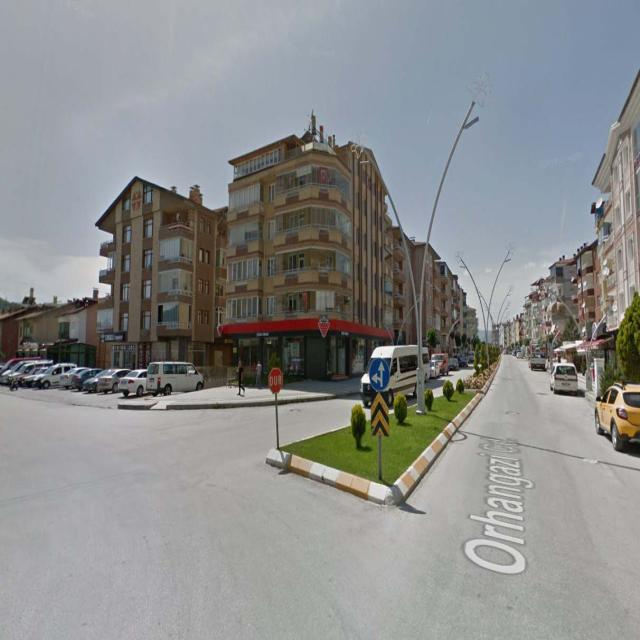dur: (270, 368, 282, 392)
ilerisol: (370, 358, 388, 388)
